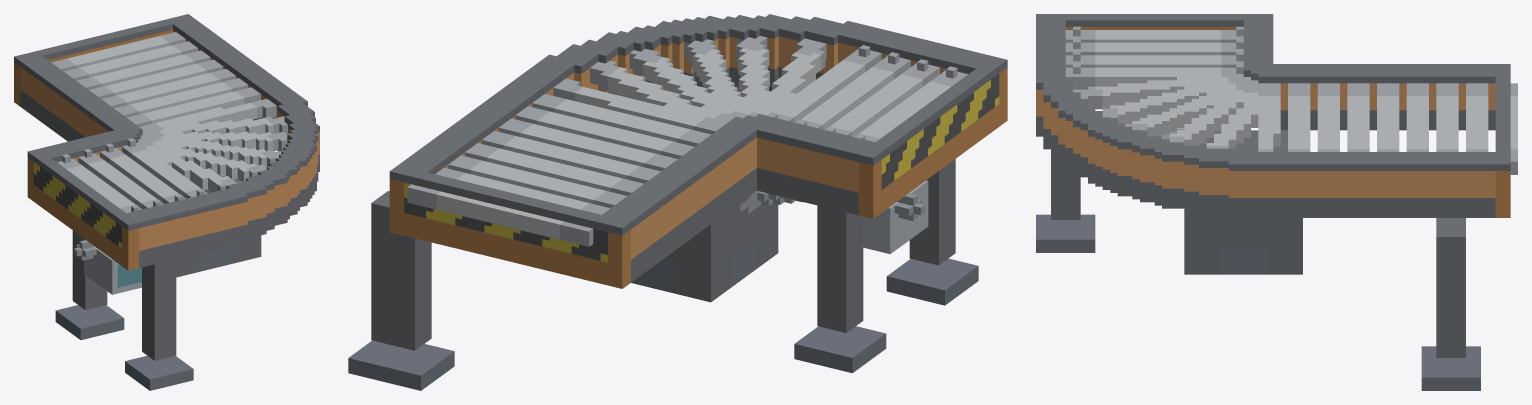
Rendered from conveyor_corner.glb.
3 views of the same model, side by side, from view 1: azimuth 30°, elevation 25°; view 2: azimuth 150°, elevation 25°; view 3: azimuth 270°, elevation 25° (orthographic). The views are drawn at different scales.
Parts seen in each view (by area): view 1: conveyor_corner; view 2: conveyor_corner; view 3: conveyor_corner.
Boxes of the visible parts, x1,y1,x2,y2 form: conveyor_corner: [14, 14, 319, 390]; conveyor_corner: [348, 14, 1007, 390]; conveyor_corner: [1036, 14, 1517, 390].
Size of the model in its own units: 1.75 by 0.9375 by 2.03.
